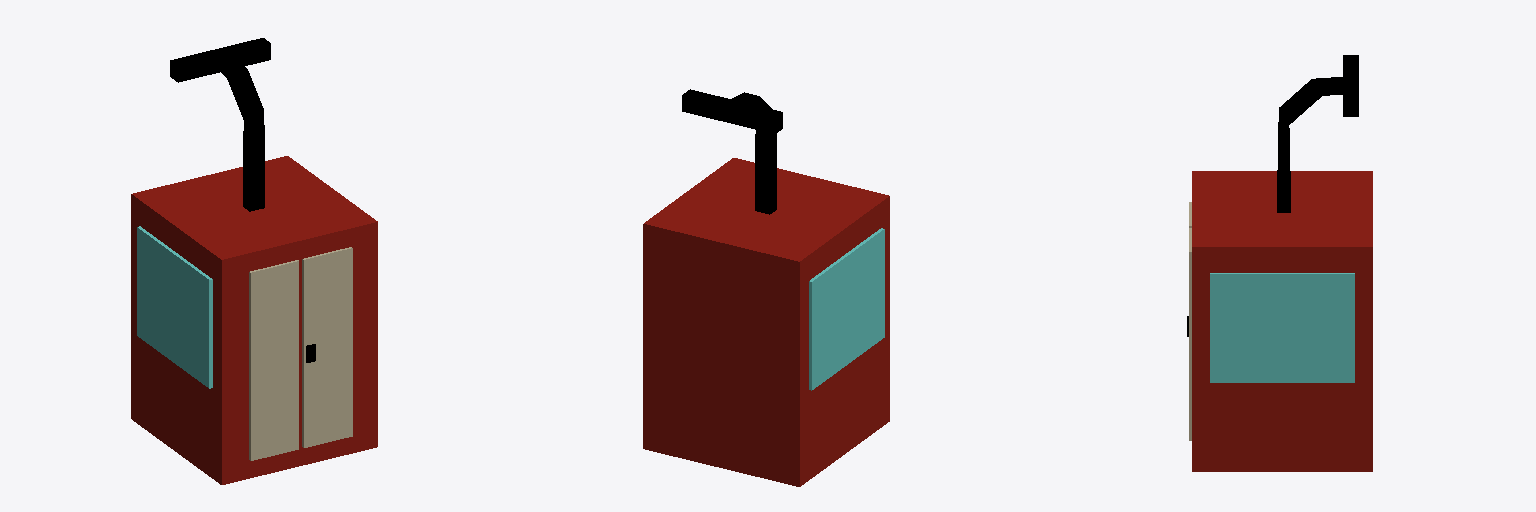
The model's file is cabine.obj.
The picture shows the model from 3 angles: view 1: azimuth 30°, elevation 25°; view 2: azimuth 150°, elevation 25°; view 3: azimuth 270°, elevation 25°; orthographic projection.
Parts seen in each view (by area): view 1: Cabine, Porte2, Porte, Vitres, Bras, Roues; view 2: Cabine, Vitres, Roues, Bras; view 3: Cabine, Vitres, Bras, Roues, Porte2.
Boxes of the visible parts, <box> form: Cabine: <box>131,156,377,484</box>; Porte2: <box>302,247,352,447</box>; Porte: <box>249,260,298,460</box>; Vitres: <box>137,226,212,388</box>; Bras: <box>218,55,264,211</box>; Roues: <box>170,38,270,82</box>; Cabine: <box>643,158,889,486</box>; Vitres: <box>809,228,884,390</box>; Roues: <box>682,89,782,133</box>; Bras: <box>732,92,776,214</box>; Cabine: <box>1192,171,1372,471</box>; Vitres: <box>1210,273,1354,382</box>; Bras: <box>1277,77,1342,212</box>; Roues: <box>1343,55,1358,116</box>; Porte2: <box>1189,228,1191,440</box>.
Size of the model in its own units: 3.35 by 6.99 by 3.3.